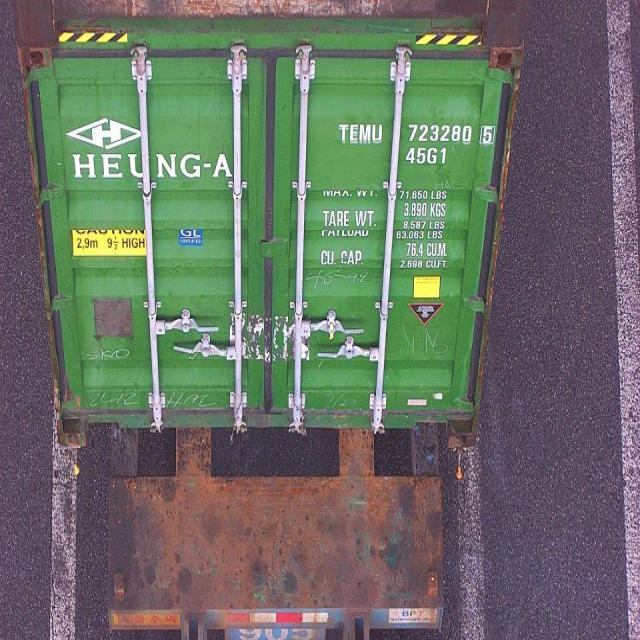ISO: (408, 147, 448, 166)
container_number: (338, 124, 496, 144)
